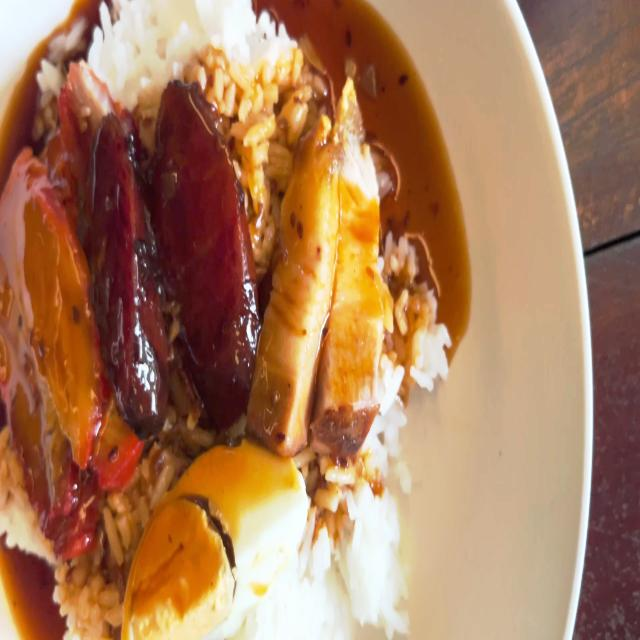boiled_egg: (130, 435, 296, 640)
chainese_sausage: (90, 81, 254, 413), (166, 74, 249, 417), (94, 116, 166, 402)
crispy_pork: (258, 77, 380, 451), (262, 120, 334, 414), (333, 94, 380, 451)
red_pork: (0, 86, 108, 534)
red_pork_and_crispy_pork: (0, 0, 452, 640)
rice: (53, 0, 313, 92), (322, 442, 424, 618), (382, 232, 444, 428), (29, 549, 126, 640)
